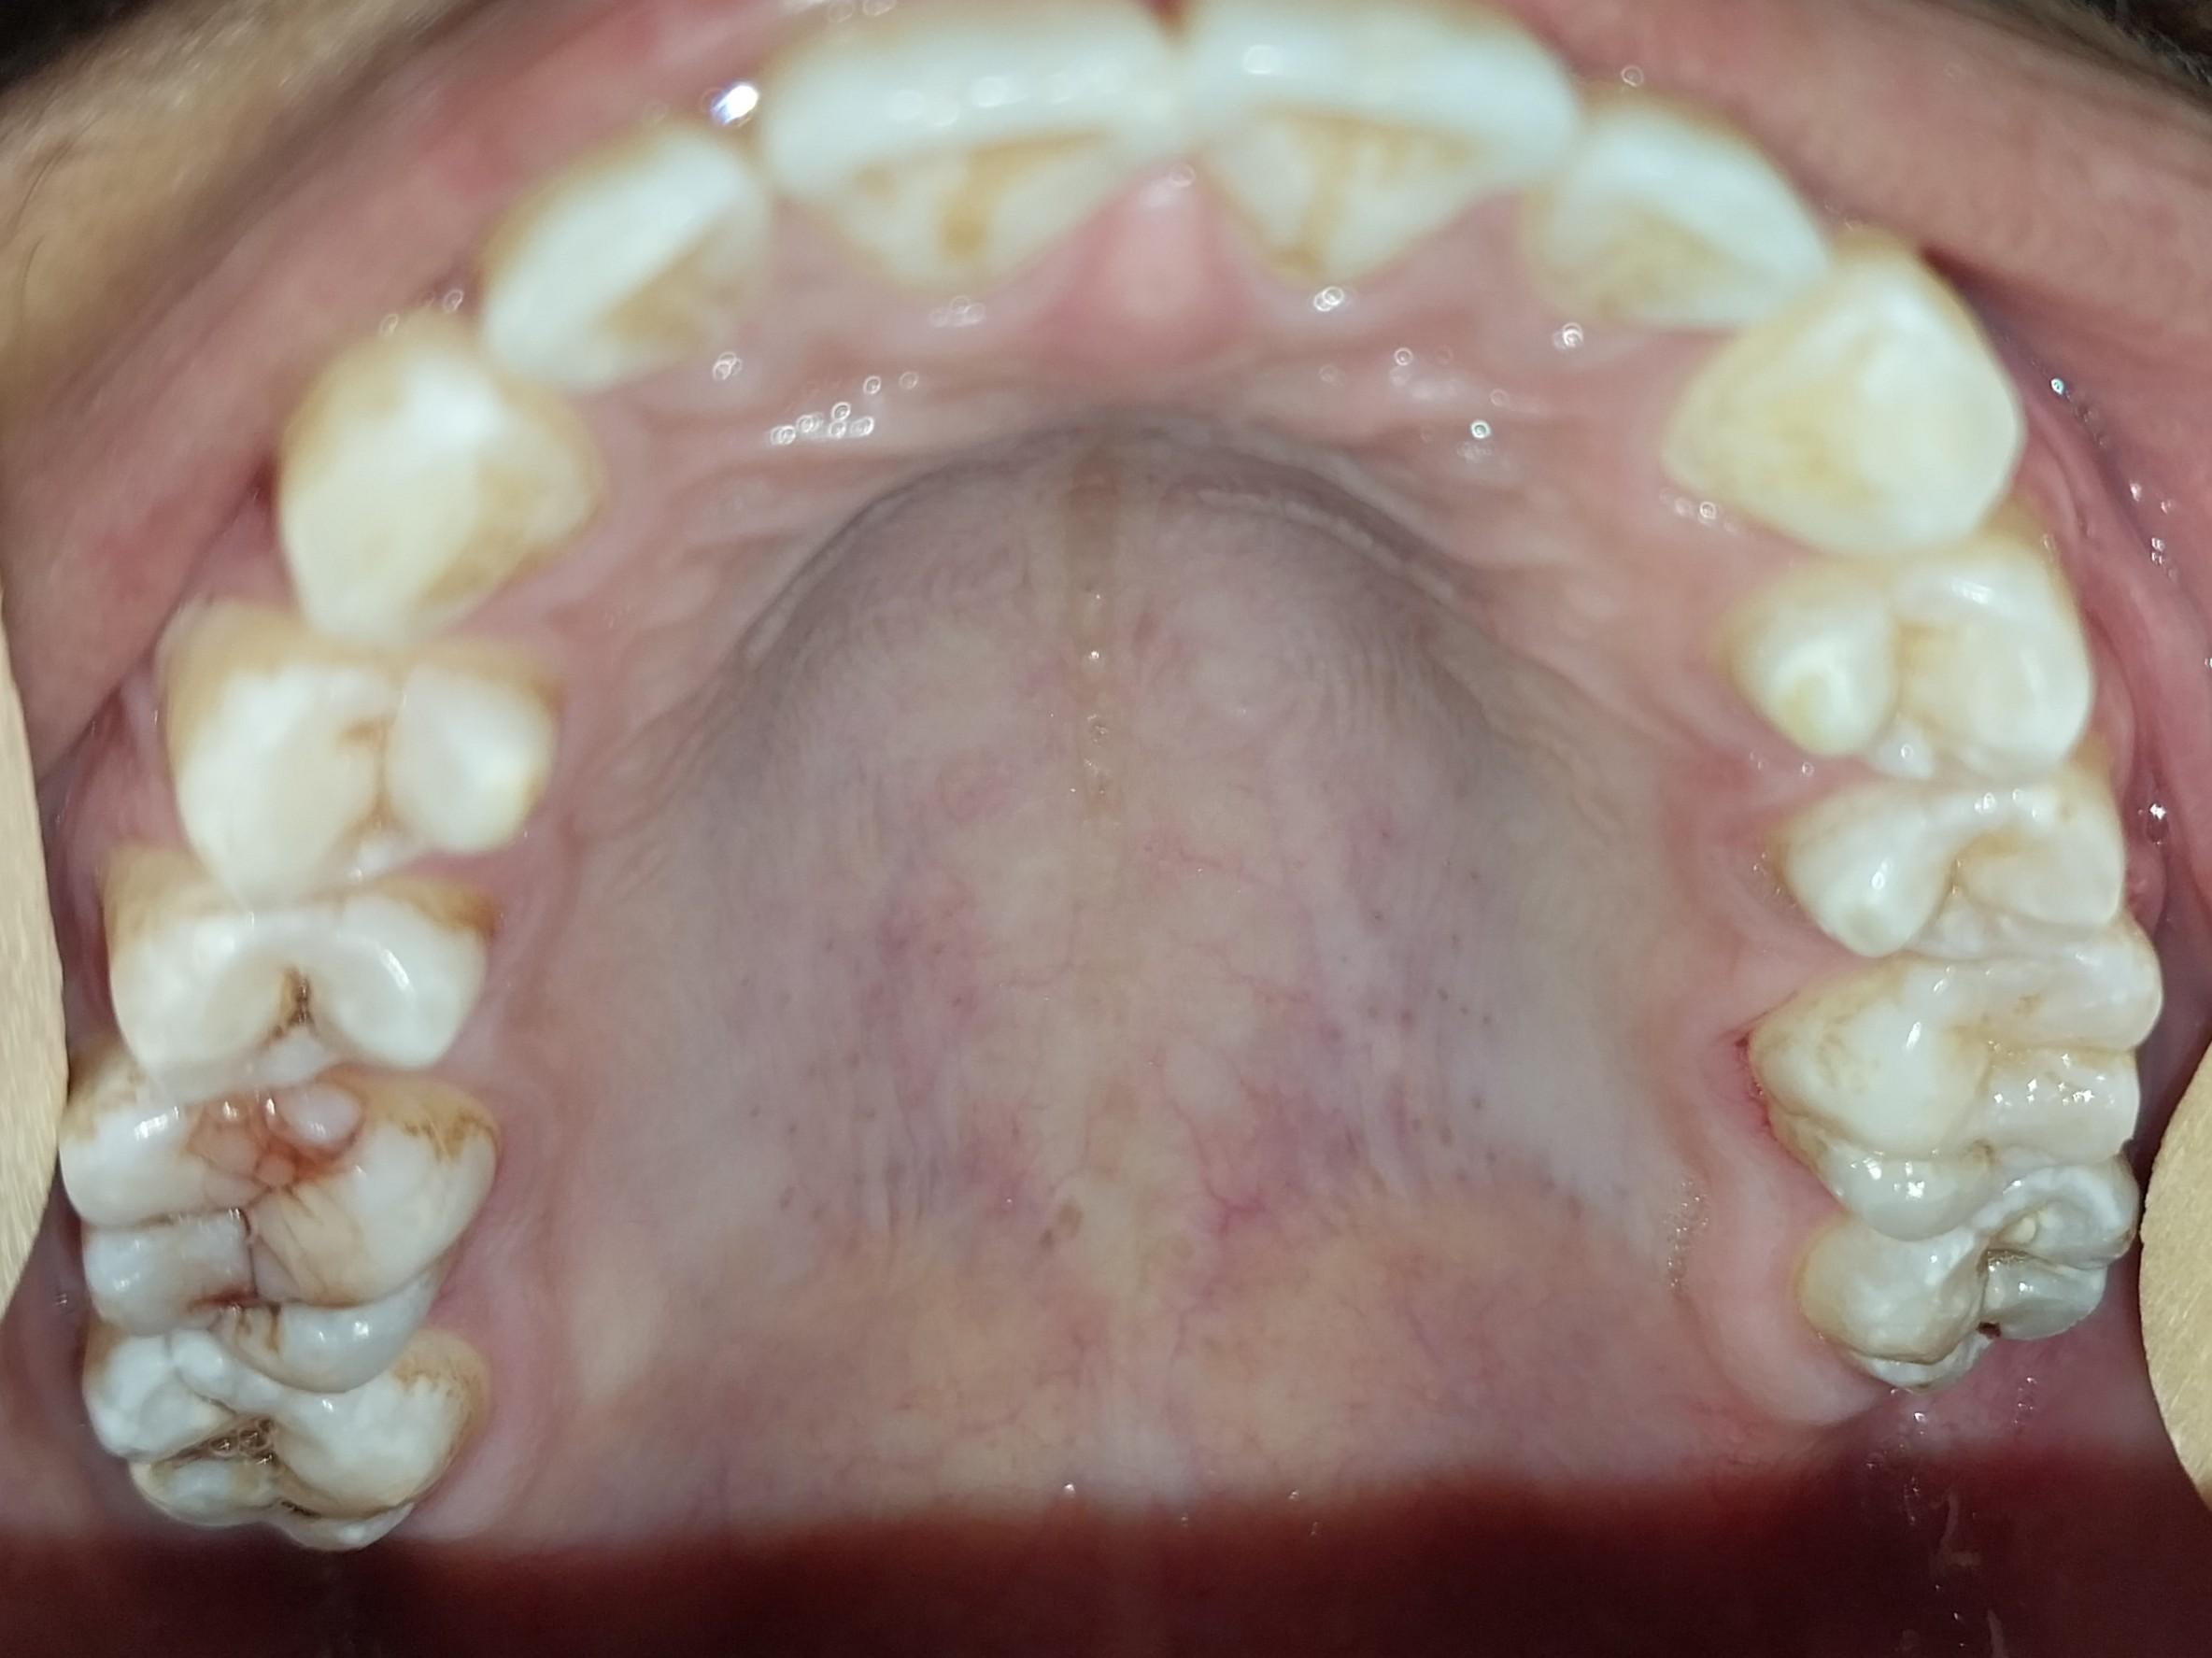D: (64, 1067, 503, 1386), (72, 1318, 486, 1559), (101, 880, 486, 1106), (1796, 1180, 2142, 1409)
